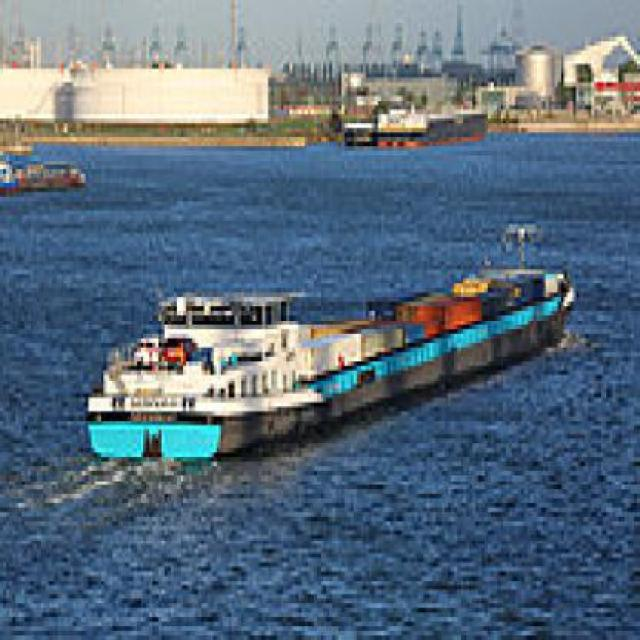container: (77, 203, 583, 490)
